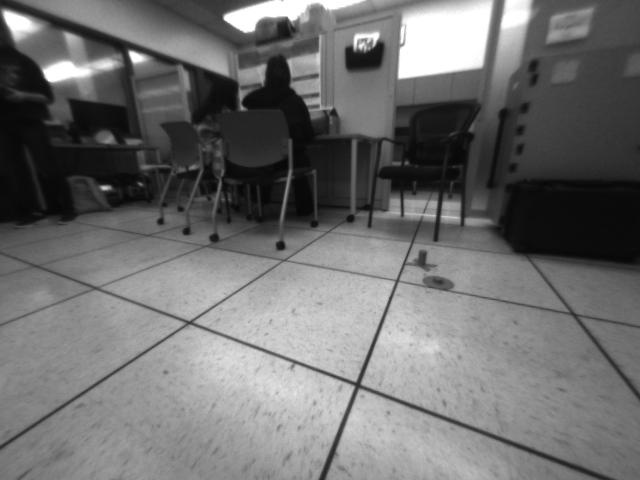X: (403, 248, 439, 273)
